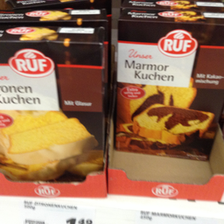cake: (1, 20, 110, 199), (113, 9, 223, 167)
